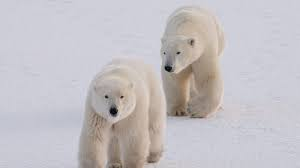PolarBear: (68, 51, 175, 168)
